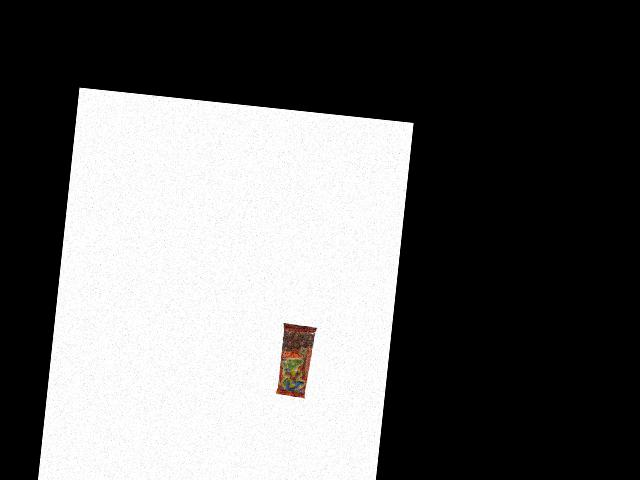chocolate: (275, 323, 315, 398)
